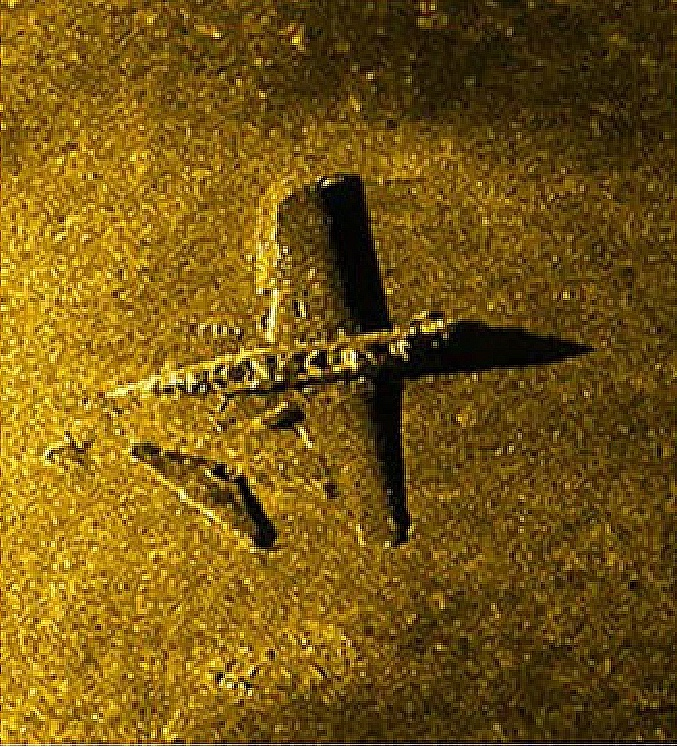aircraft: (78, 173, 464, 551)
